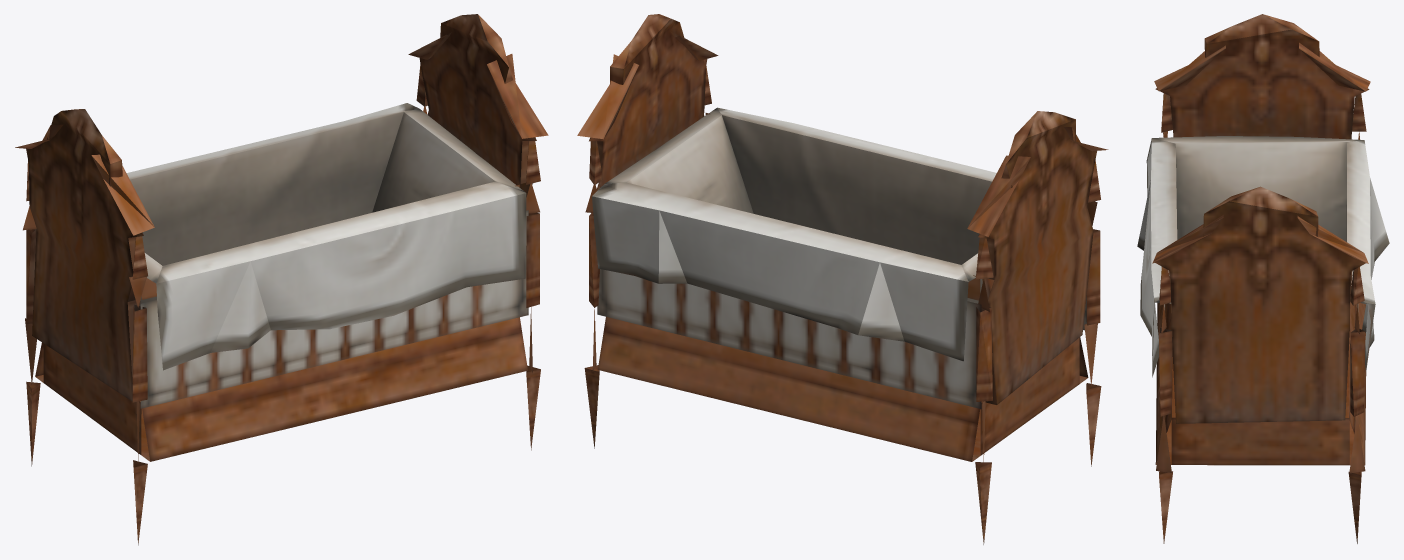
The model's file is cot-baby.lod1.glb.
The picture shows the model from 3 angles, left to right: view 1: azimuth 30°, elevation 25°; view 2: azimuth 150°, elevation 25°; view 3: azimuth 270°, elevation 25°; orthographic projection. The views are drawn at different scales.
Visible parts, largest first — view 1: cot-baby; view 2: cot-baby; view 3: cot-baby.
Part boxes in pixels (x1,y1,x2,y2): cot-baby: [15, 14, 548, 545]; cot-baby: [577, 14, 1108, 544]; cot-baby: [1137, 14, 1389, 543].
Size of the model in its own units: 1.2 by 1.08 by 0.6883.
1 material, 1 textured.
